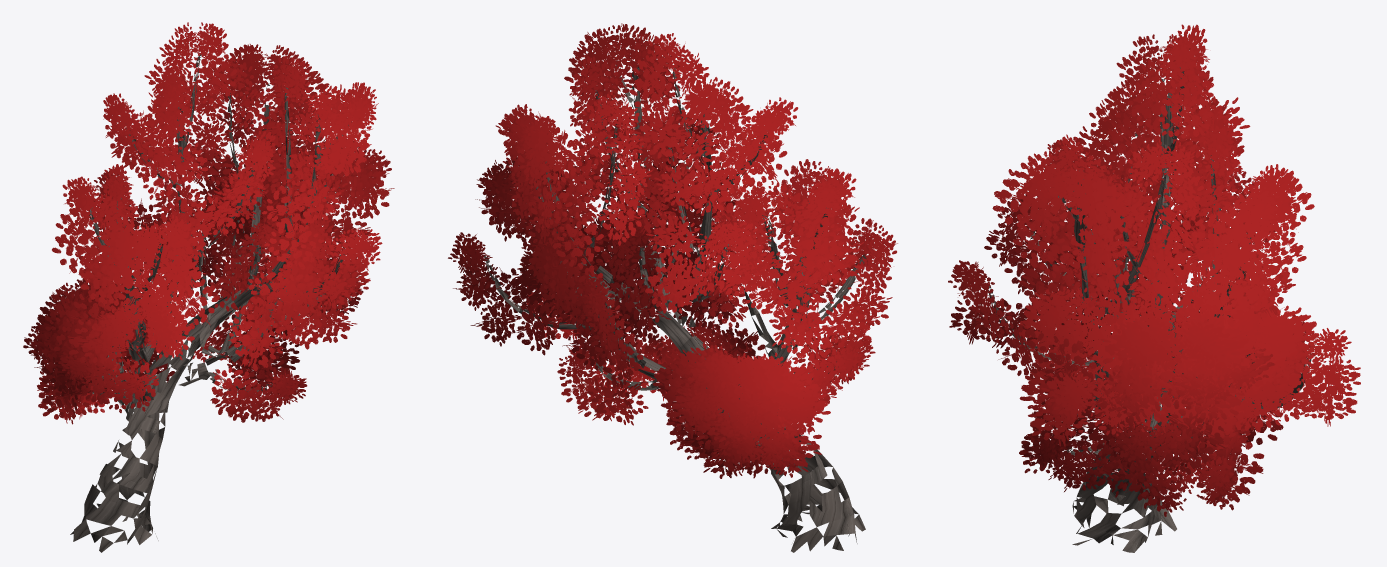
File: TwistedTree_1.gltf
3 views of the same model, side by side, from view 1: azimuth 30°, elevation 25°; view 2: azimuth 150°, elevation 25°; view 3: azimuth 270°, elevation 25° (orthographic). The views are drawn at different scales.
Parts seen in each view (by area): view 1: TwistedTree_1; view 2: TwistedTree_1; view 3: TwistedTree_1.
Part boxes in pixels (<box>): TwistedTree_1: <box>23,22,394,552</box>; TwistedTree_1: <box>448,23,897,552</box>; TwistedTree_1: <box>948,24,1360,552</box>.
Bounding box in the file's own units: 13.52 × 16.73 × 11.55.
Materials: 2 (2 with a texture image).
